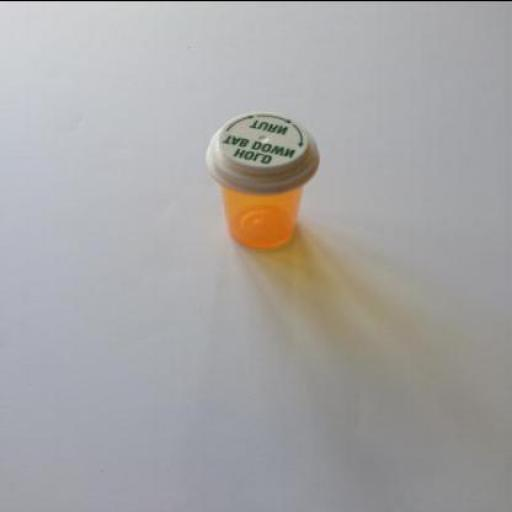plastic: (207, 109, 321, 245), (204, 109, 320, 193)
